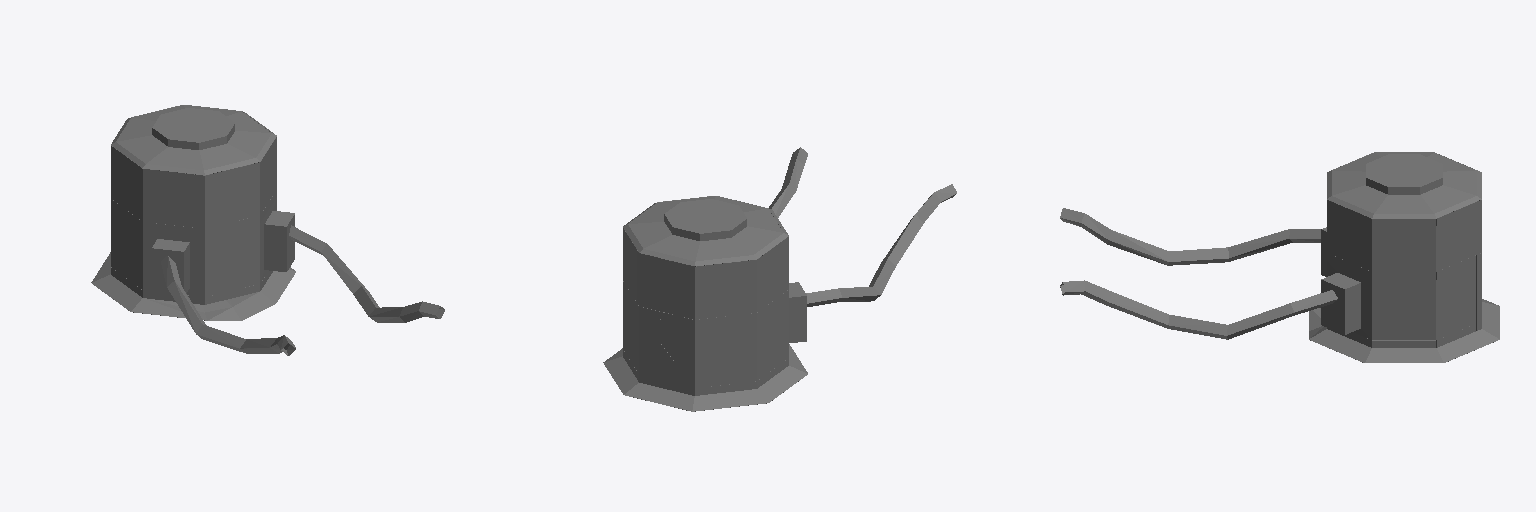
File: tank.obj
3 renders of one model, left to right at view 1: azimuth 30°, elevation 25°; view 2: azimuth 150°, elevation 25°; view 3: azimuth 270°, elevation 25°, orthographic.
Visible parts, largest first — view 1: rdmobj121; view 2: rdmobj121; view 3: rdmobj121.
Boxes of the visible parts, x1,y1,x2,y2 form: rdmobj121: [91, 105, 444, 355]; rdmobj121: [603, 147, 956, 411]; rdmobj121: [1060, 152, 1499, 362].
Size of the model in its own units: 13.02 by 12.24 by 28.65.